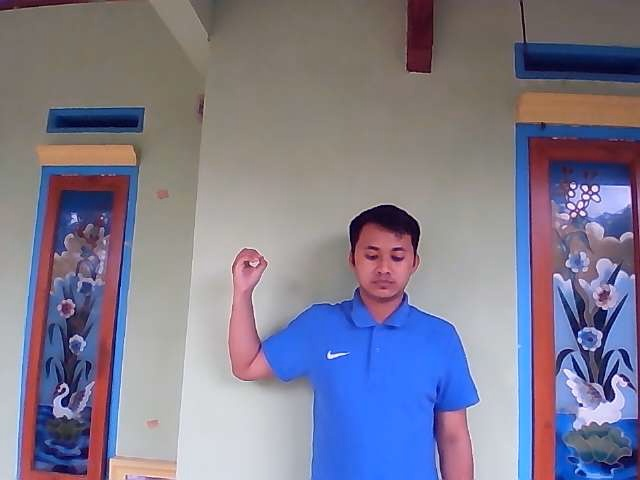O: (230, 245, 270, 289)
